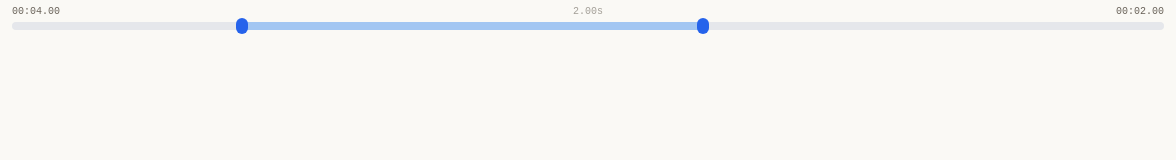
it: while dragging › shows the time being dragged to instead of the duration
Press the mouse on the 1st element with class "cursor-ew-resize": (242, 26) x1=236 y1=18 x2=248 y2=34
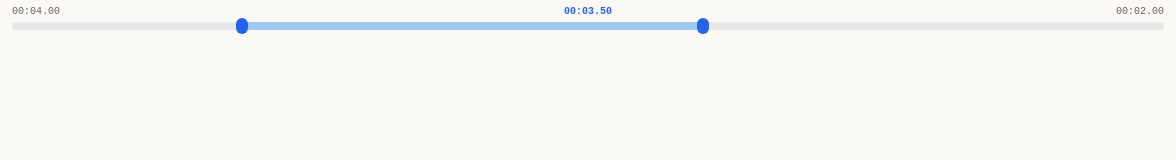
Now the text "00:03.50" is shown, box x1=564 y1=4 x2=612 y2=20
Now the text "2.00s" is gone
